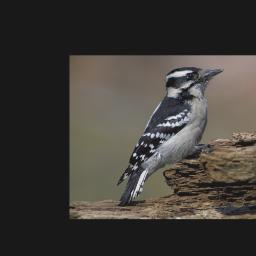Woodpecker: (116, 64, 225, 208)
